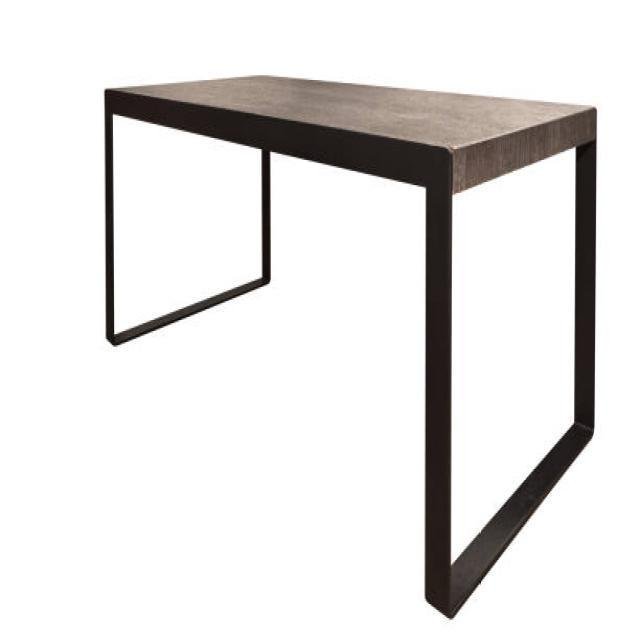table: (103, 72, 598, 618)
